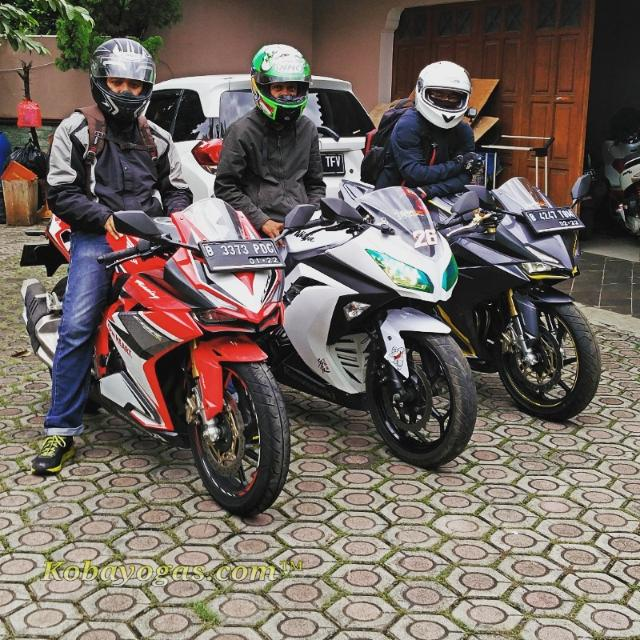helm: (87, 35, 162, 130), (253, 41, 316, 123), (414, 58, 475, 135)
motor: (20, 171, 316, 519), (232, 174, 485, 474), (364, 166, 609, 433)
